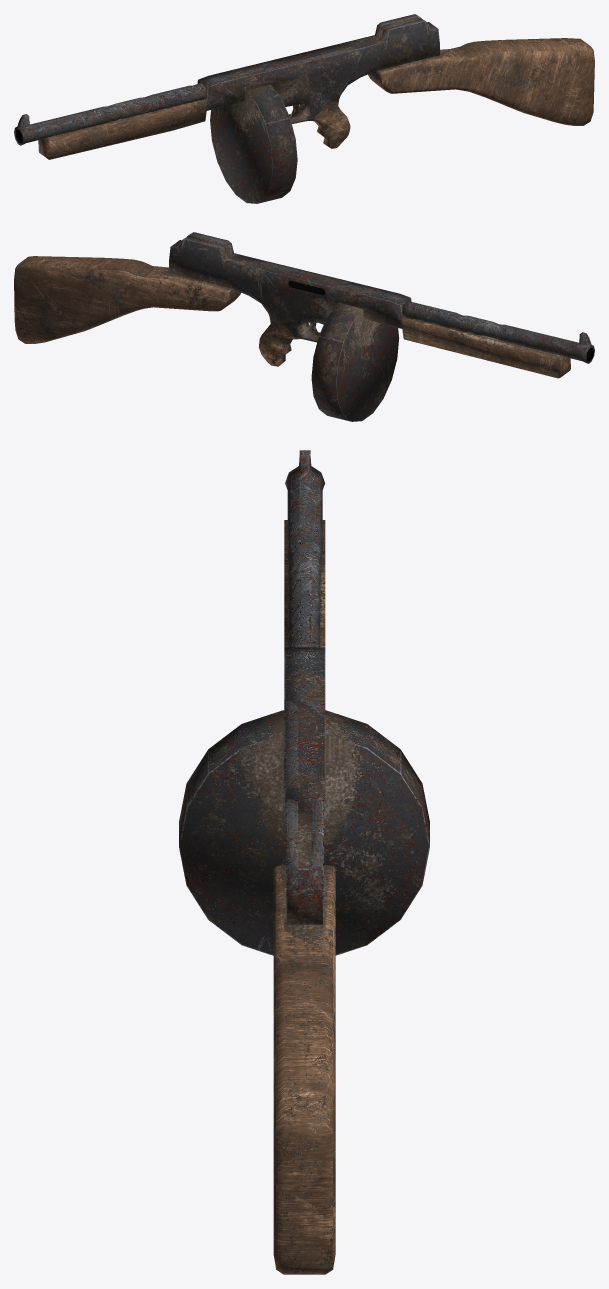
The model's file is Ametralladora.obj.
3 views of the same model, one above another, from view 1: azimuth 30°, elevation 25°; view 2: azimuth 150°, elevation 25°; view 3: azimuth 270°, elevation 25° (orthographic). The views are drawn at different scales.
Parts seen in each view (by area): view 1: Ametralladora; view 2: Ametralladora; view 3: Ametralladora.
Part boxes in pixels (x1=…): Ametralladora: x1=14, y1=14, x2=594, y2=203; Ametralladora: x1=14, y1=232, x2=594, y2=421; Ametralladora: x1=179, y1=450, x2=429, y2=1274.
Bounding box in the file's own units: 6 × 1.44 × 1.15.
Materials: 1 (1 with a texture image).
